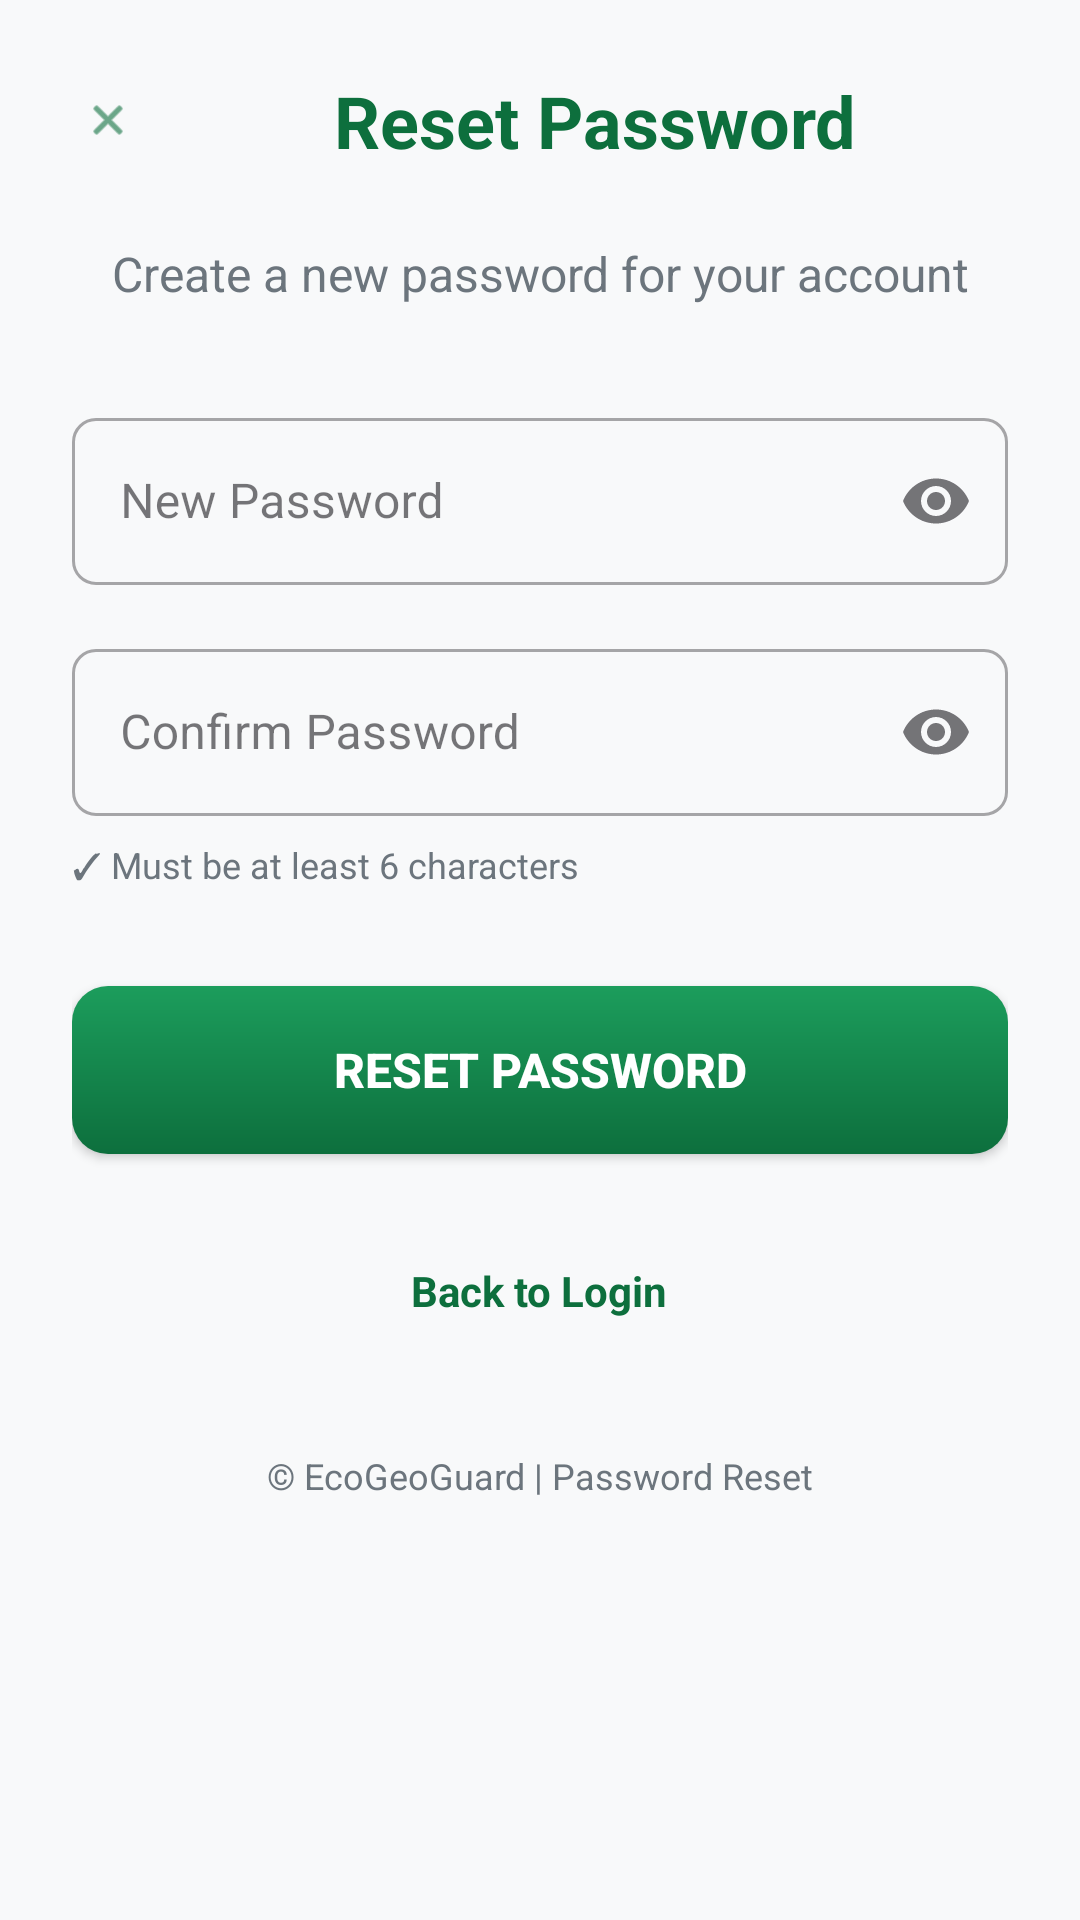

Icons on this 1080×1920 Android screen, each with the point to tap as point (x, y):
close clear cancel: point (108, 120)
